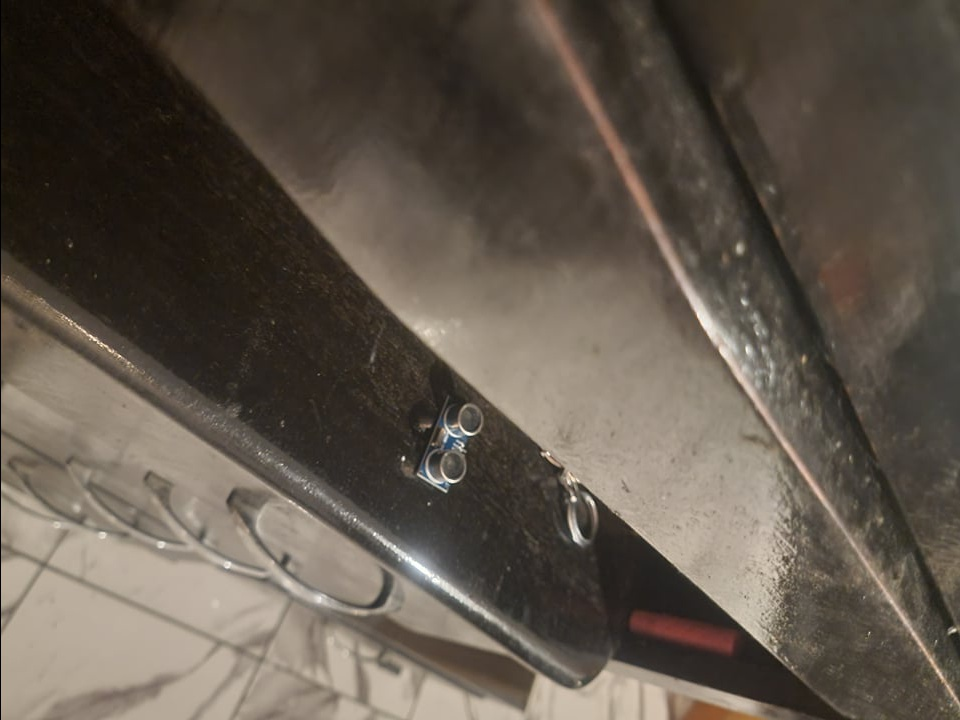SENSOR: (415, 394, 485, 495)
